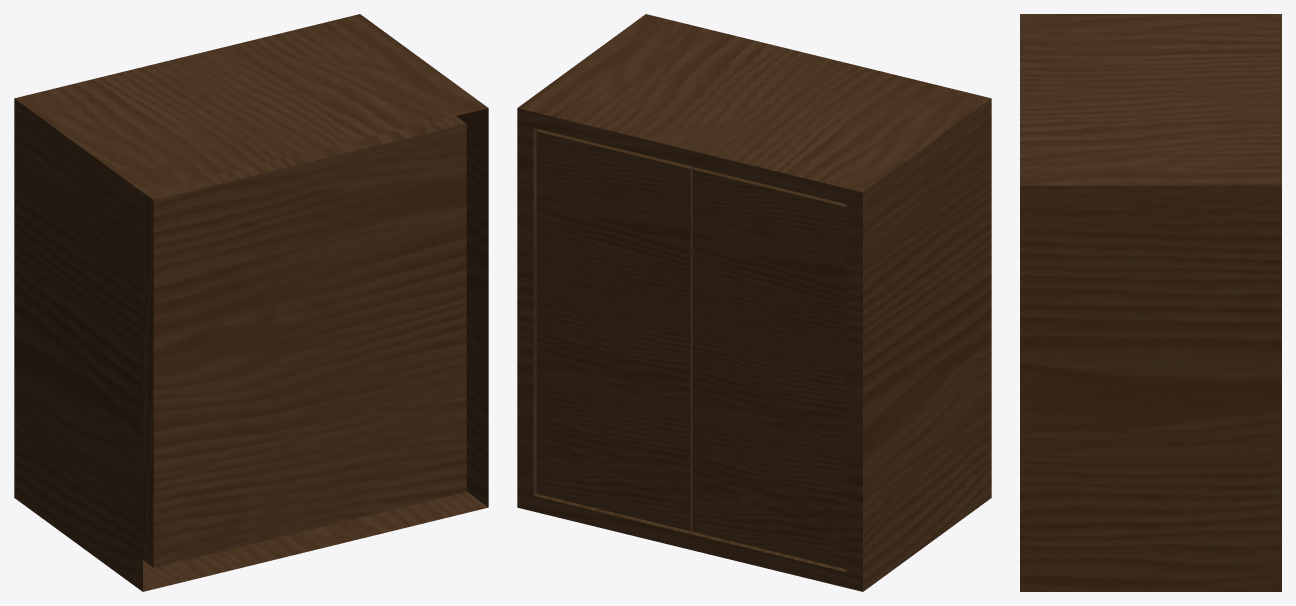
Rendered from Cabinet_Main_v2.glb.
3 renders of one model, left to right at view 1: azimuth 30°, elevation 25°; view 2: azimuth 150°, elevation 25°; view 3: azimuth 270°, elevation 25°, orthographic.
Parts seen in each view (by area): view 1: Cabinet_Main; view 2: Cabinet_Main; view 3: Cabinet_Main.
Boxes of the visible parts, left/top/right/bottom form: Cabinet_Main: left=14, top=14, right=488, bottom=591; Cabinet_Main: left=517, top=14, right=991, bottom=591; Cabinet_Main: left=1020, top=14, right=1281, bottom=591.
Size of the model in its own units: 150 by 166 by 96.78.
Materials: 3 (3 with a texture image).
